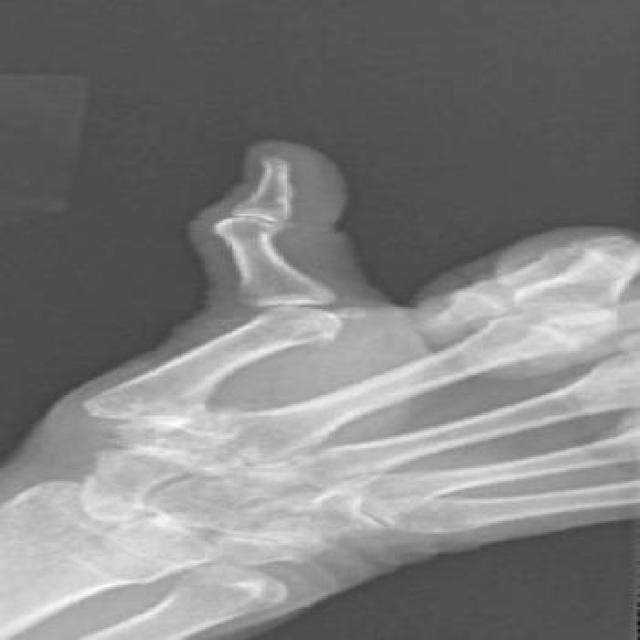Fracture: (66, 397, 161, 446)
